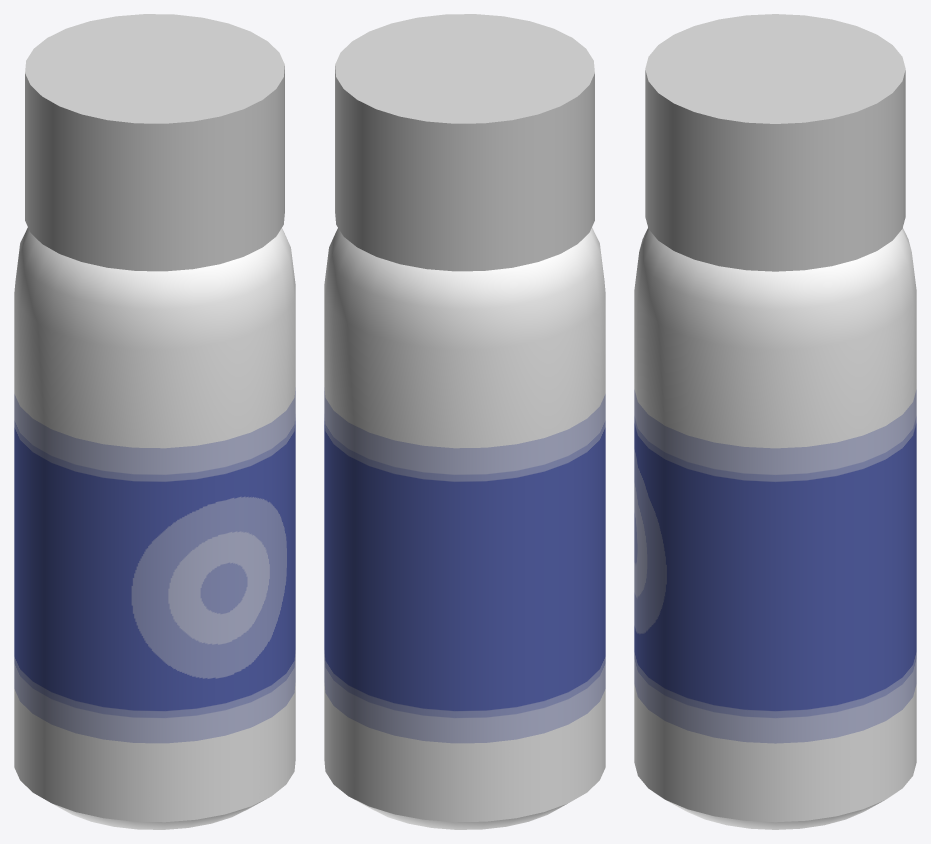
File: Deodorant.fbx
The picture shows the model from 3 angles, left to right: view 1: azimuth 30°, elevation 25°; view 2: azimuth 150°, elevation 25°; view 3: azimuth 270°, elevation 25°; orthographic projection.
Visible parts, largest first — view 1: Deodorant; view 2: Deodorant; view 3: Deodorant.
Part boxes in pixels (left/top/right/bottom): Deodorant: left=14, top=14, right=295, bottom=829; Deodorant: left=324, top=14, right=605, bottom=829; Deodorant: left=634, top=14, right=916, bottom=829.
Size of the model in its own units: 0.052 by 0.145 by 0.052.
Materials: 3 (1 with a texture image).
